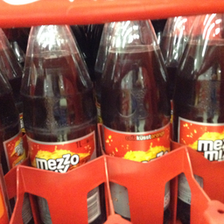soda: (20, 25, 102, 223), (99, 21, 171, 220), (173, 16, 222, 218)
